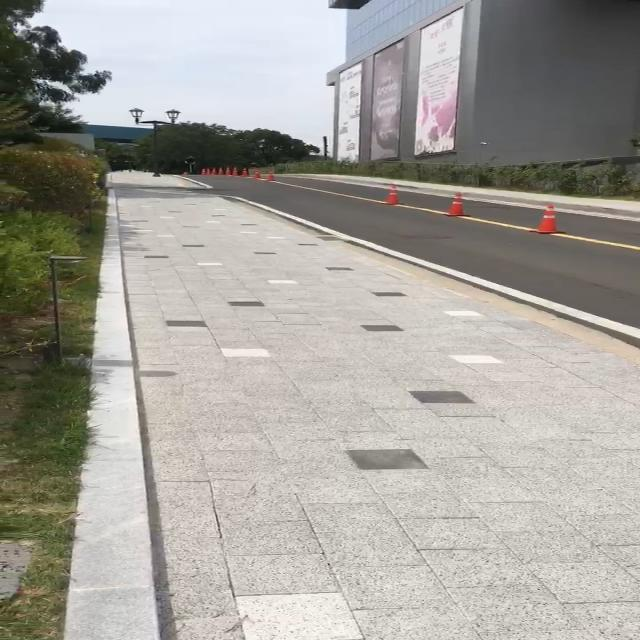obstacle: (524, 202, 570, 237), (439, 188, 479, 222), (367, 180, 409, 207)
road: (182, 176, 640, 360)
sidewalk: (67, 188, 640, 640), (308, 170, 640, 217), (108, 174, 199, 188)
